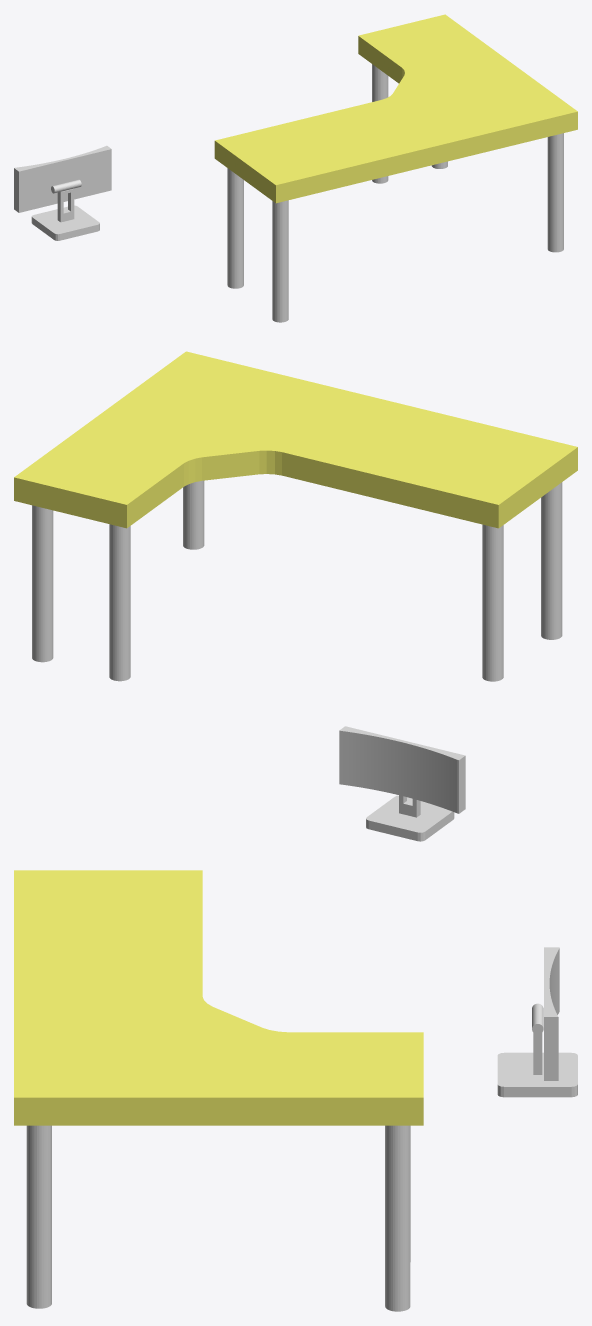
File: table.glb
3 renders of one model, top to bottom at view 1: azimuth 30°, elevation 25°; view 2: azimuth 150°, elevation 25°; view 3: azimuth 270°, elevation 25°, orthographic. The views are drawn at different scales.
Visible parts, largest first — view 1: Table, Cube.002, Cylinder.001, Cylinder, Cylinder.002, Cube, Cylinder.003, Cube.001; view 2: Table, Cube.002, Cylinder.002, Cylinder.003, Cylinder.004, Cylinder.001, Cube, Cylinder; view 3: Table, Cylinder.004, Cylinder, Cube, Cube.002.
Part boxes in pixels (x1,y1,x2,y2): Table: [214, 14, 577, 203]; Cube.002: [14, 145, 111, 212]; Cylinder.001: [272, 200, 288, 322]; Cylinder: [547, 133, 563, 252]; Cylinder.002: [227, 168, 243, 288]; Cube: [31, 205, 99, 240]; Cylinder.003: [372, 64, 388, 183]; Cube.001: [57, 188, 74, 222]; Table: [14, 351, 577, 528]; Cube.002: [339, 726, 465, 813]; Cylinder.002: [482, 524, 503, 681]; Cylinder.003: [109, 524, 130, 681]; Cylinder.004: [32, 505, 53, 662]; Cylinder.001: [541, 482, 562, 639]; Cube: [366, 795, 454, 841]; Cylinder: [183, 480, 204, 549]; Table: [14, 870, 423, 1125]; Cylinder.004: [385, 1125, 410, 1311]; Cylinder: [26, 1125, 51, 1308]; Cube: [497, 1052, 577, 1097]; Cube.002: [544, 947, 559, 1080].
Bounding box in the file's own units: 6.25 × 2.4 × 5.11.
